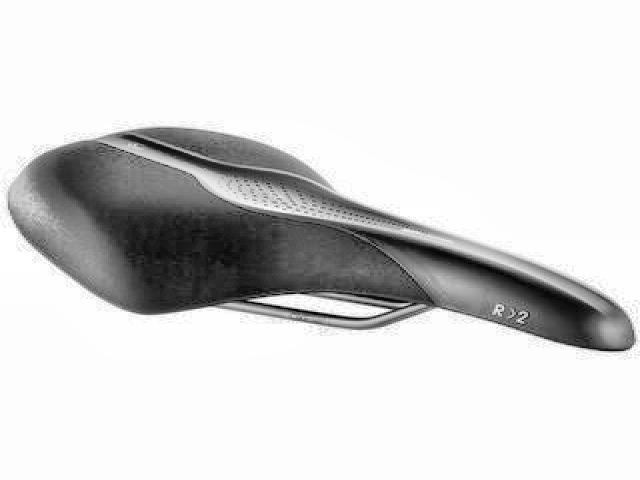saddle: (9, 123, 636, 355)
